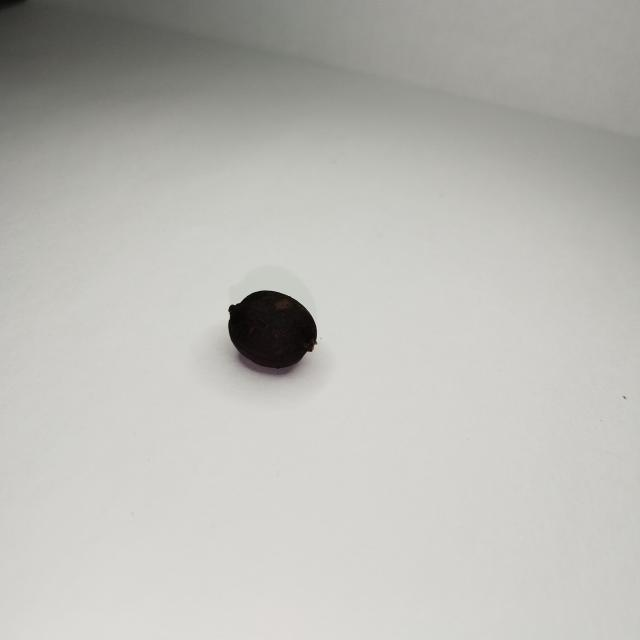Danado: (228, 292, 319, 368)
